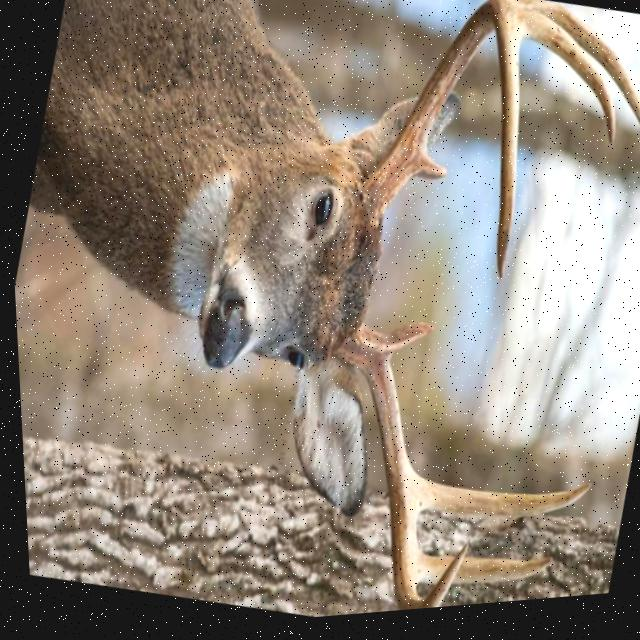L-F: (353, 2, 518, 288)
L-G1: (412, 154, 445, 186)
L-G3: (515, 15, 614, 155)
R-F: (331, 326, 462, 617)
R-G1: (380, 327, 431, 365)
R-G2: (407, 478, 586, 525)
